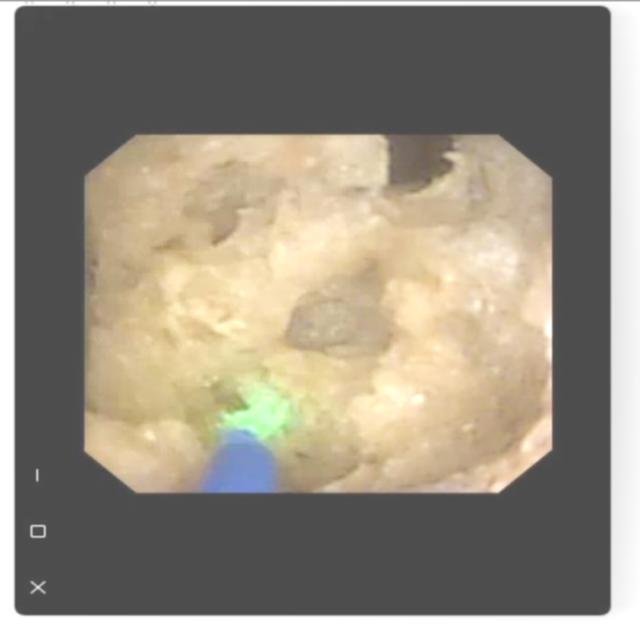fiber: (204, 433, 272, 488)
stone: (91, 139, 543, 487)
